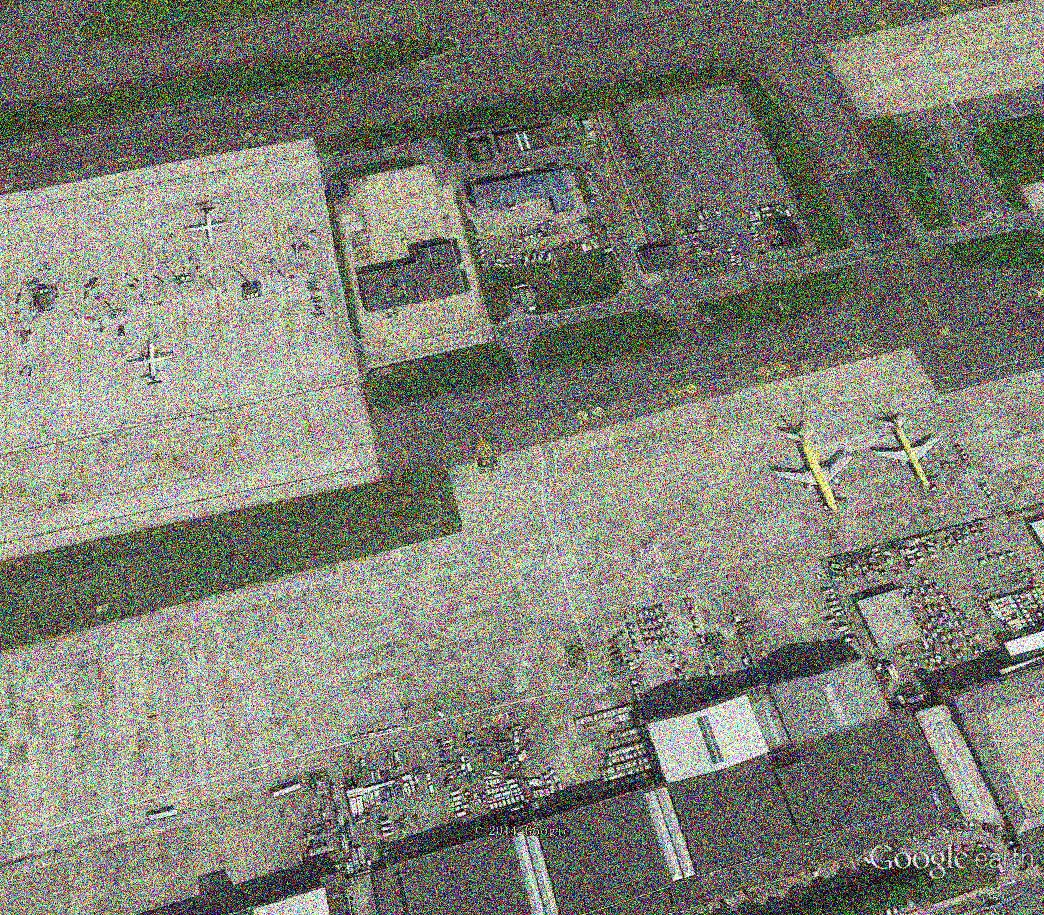aircraft: (768, 427, 861, 526), (868, 409, 949, 495), (124, 334, 180, 393), (187, 205, 235, 249)
